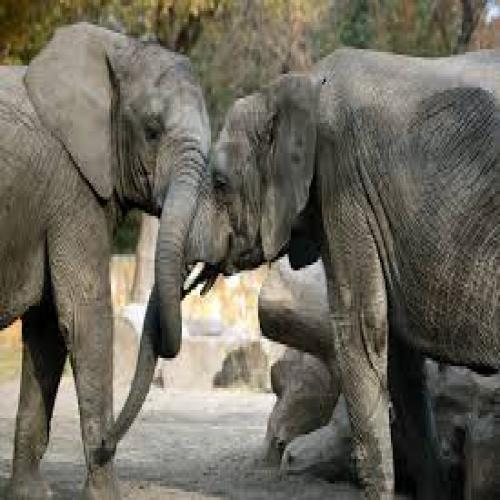asian_elephant-endangered: (96, 47, 500, 495), (0, 19, 213, 500)
